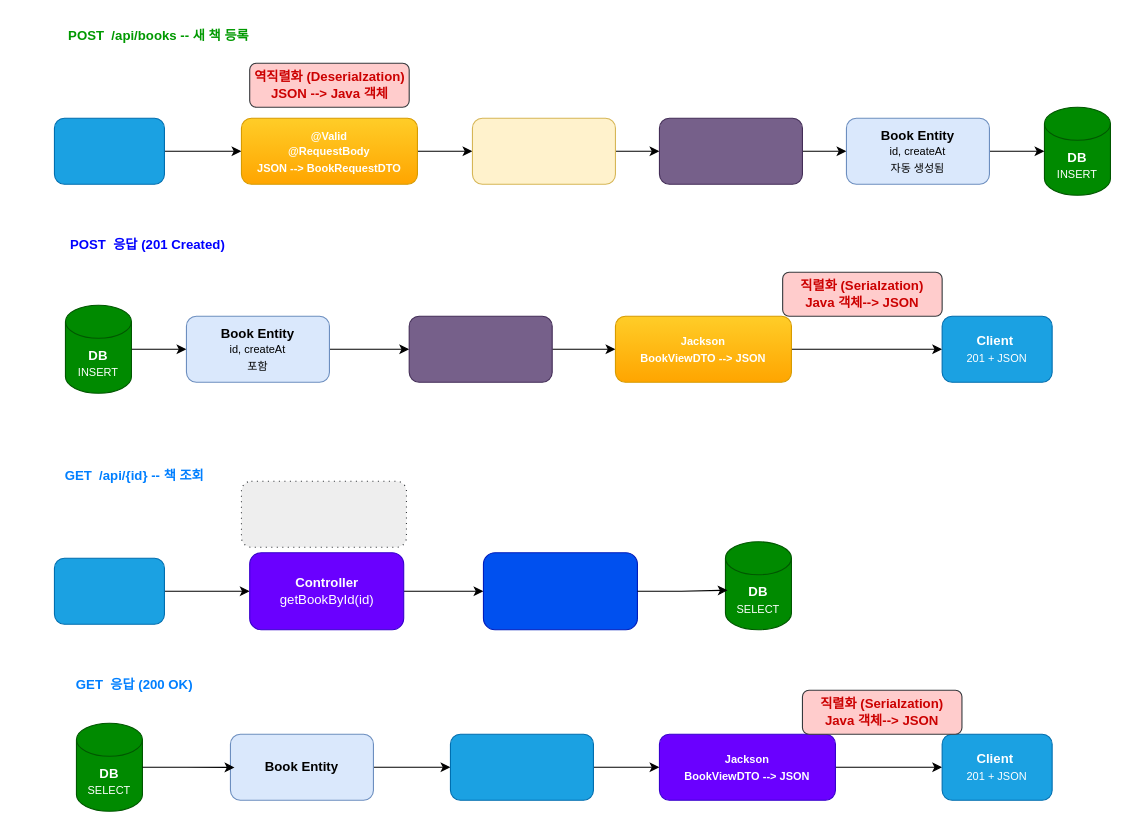
Some shapes in this 1130 by 831 pixel diagram are drawn without their labels. The box of each missing label's shape, as (x1, y1, x2, y2) in pixels:
BookRequestDTO subject, price author, page: (471, 117, 615, 184)
BookViewDTO .from(book) Entity --> DTO 변환: (449, 733, 593, 800)
Client GET 요청: (53, 557, 164, 624)
Client JSON 전송: (53, 117, 164, 184)
Service DTO --> Entity 변환 repo.save(book): (658, 117, 802, 184)
Service Entity --> DTO 변환 BookViewDTO.from(book): (408, 315, 552, 382)
Service findById(id): (482, 552, 637, 630)
역직렬화 없음 GET은 JSON Body가 없음 @PathVariable로 id만 추출: (240, 480, 406, 547)
